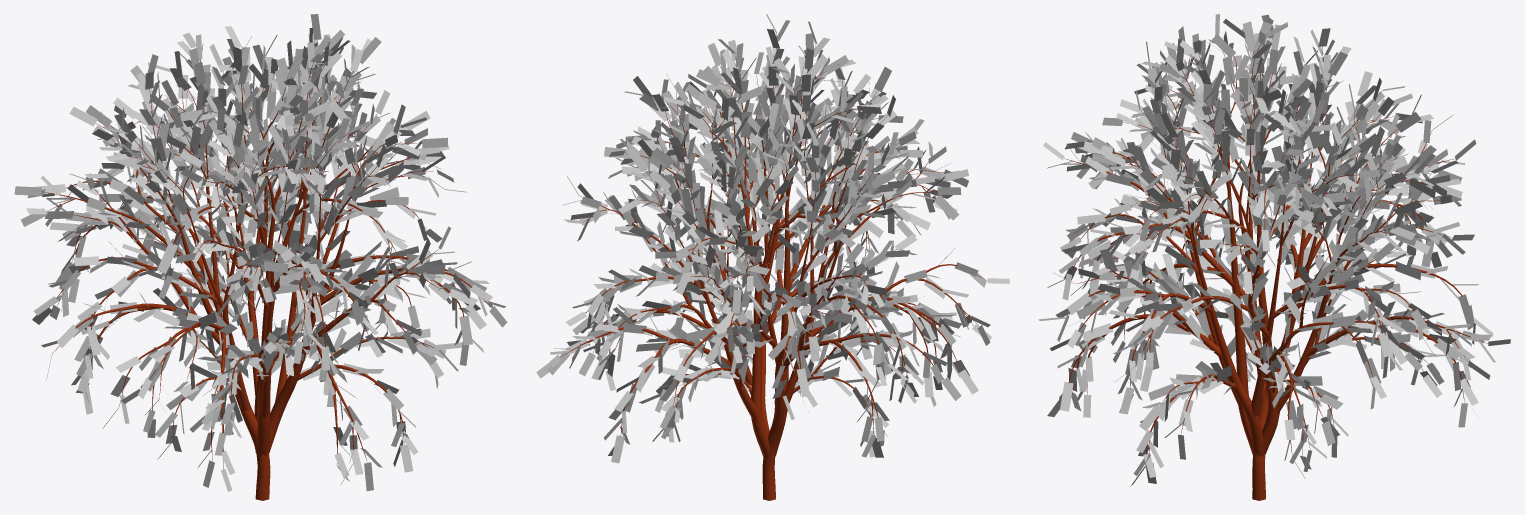
File: tree3.fbx
3 views of the same model, side by side, from view 1: azimuth 30°, elevation 25°; view 2: azimuth 150°, elevation 25°; view 3: azimuth 270°, elevation 25° (orthographic). The views are drawn at different scales.
Visible parts, largest first — view 1: leaves, tree; view 2: leaves, tree; view 3: leaves, tree.
Part boxes in pixels (x1,y1,x2,y2): leaves: [14, 14, 507, 491]; tree: [42, 40, 491, 500]; leaves: [536, 14, 1009, 463]; tree: [561, 33, 985, 500]; leaves: [1038, 14, 1510, 486]; tree: [1064, 38, 1487, 500].
Bounding box in the file's own units: 574 × 673 × 608.
